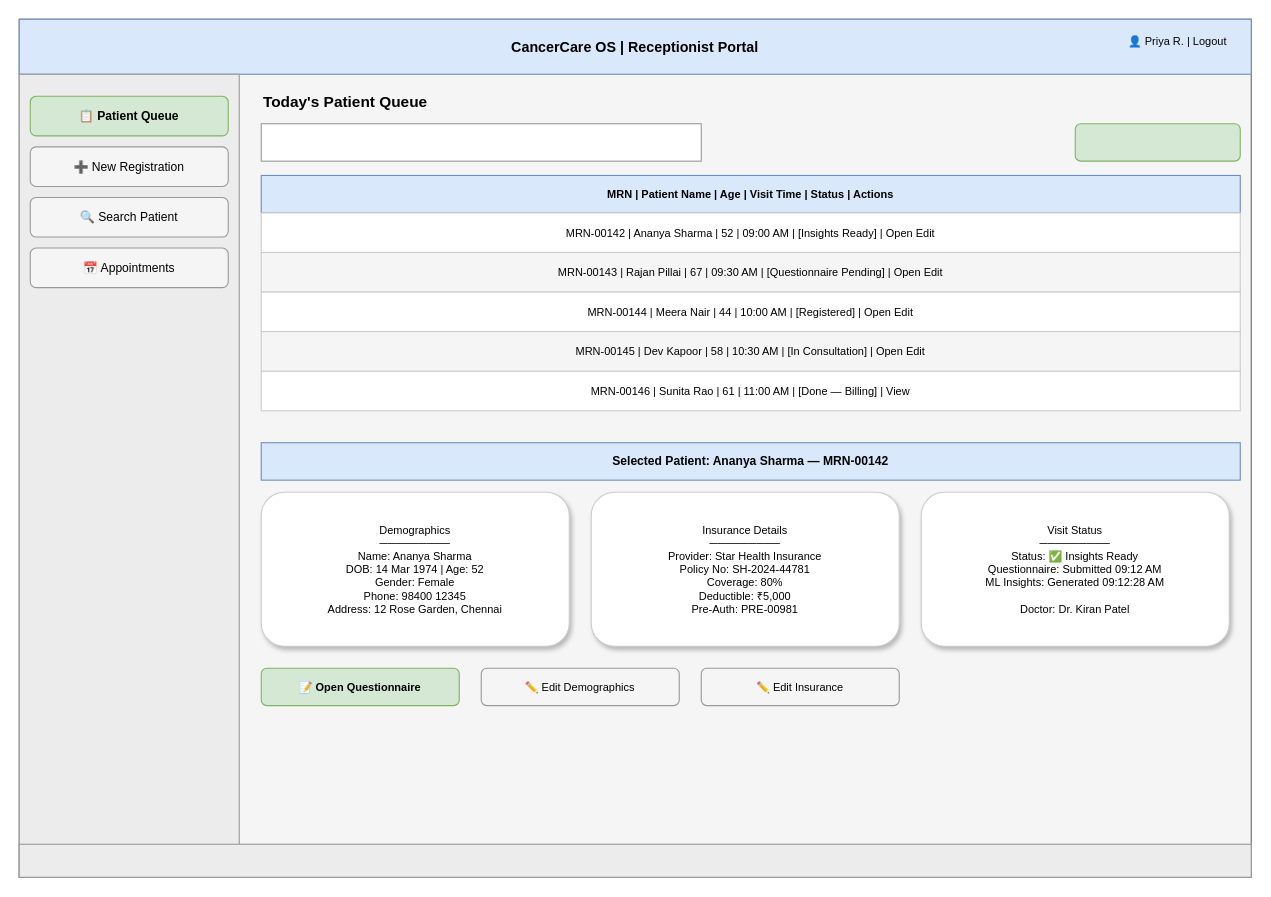
The diagram is 1271 pixels wide and 897 high, and some of its shapes have lost their labels. The shapes that lost their labels are listed below. From the top down, each one's centre as x and y in pixels, then its label:
At (480,142): "🔍 Search patient name or MRN...".
At (1157,142): "+ New Registration".
At (634,860): "CancerCare OS v1.0 | Connected ● Live | Tue 30 Sep 2026 09:45 AM".
